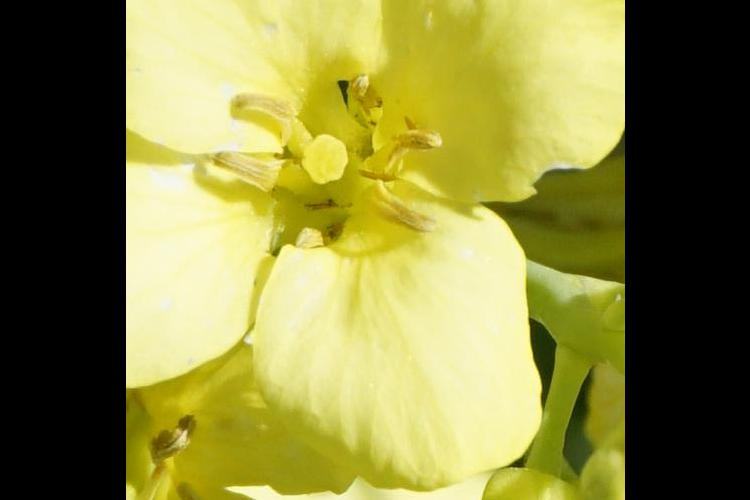yellow: (142, 1, 603, 465)
